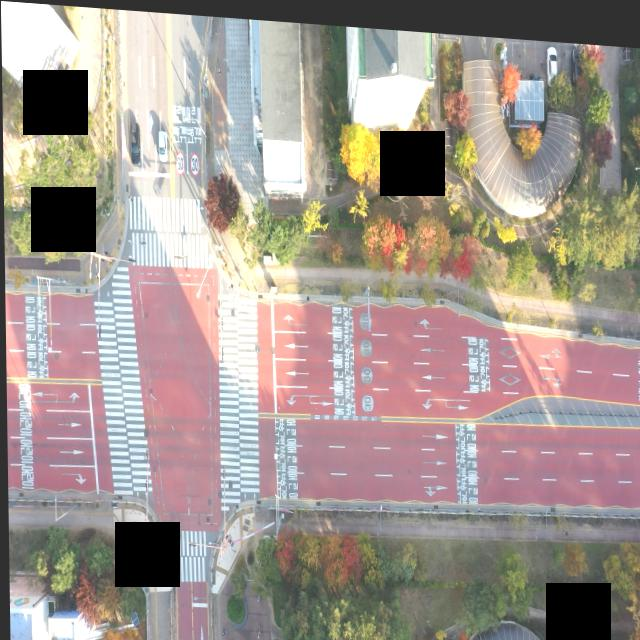car: (129, 119, 140, 164), (546, 36, 557, 68), (155, 126, 165, 159)
